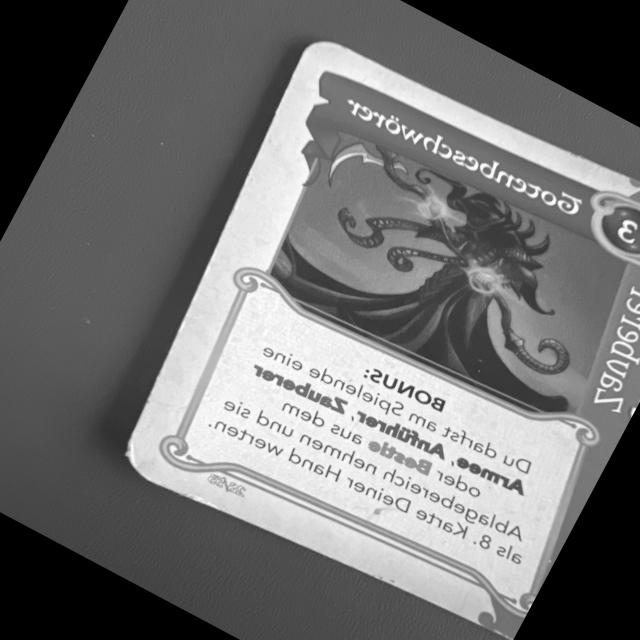Shapeshifter: (109, 35, 640, 640)
